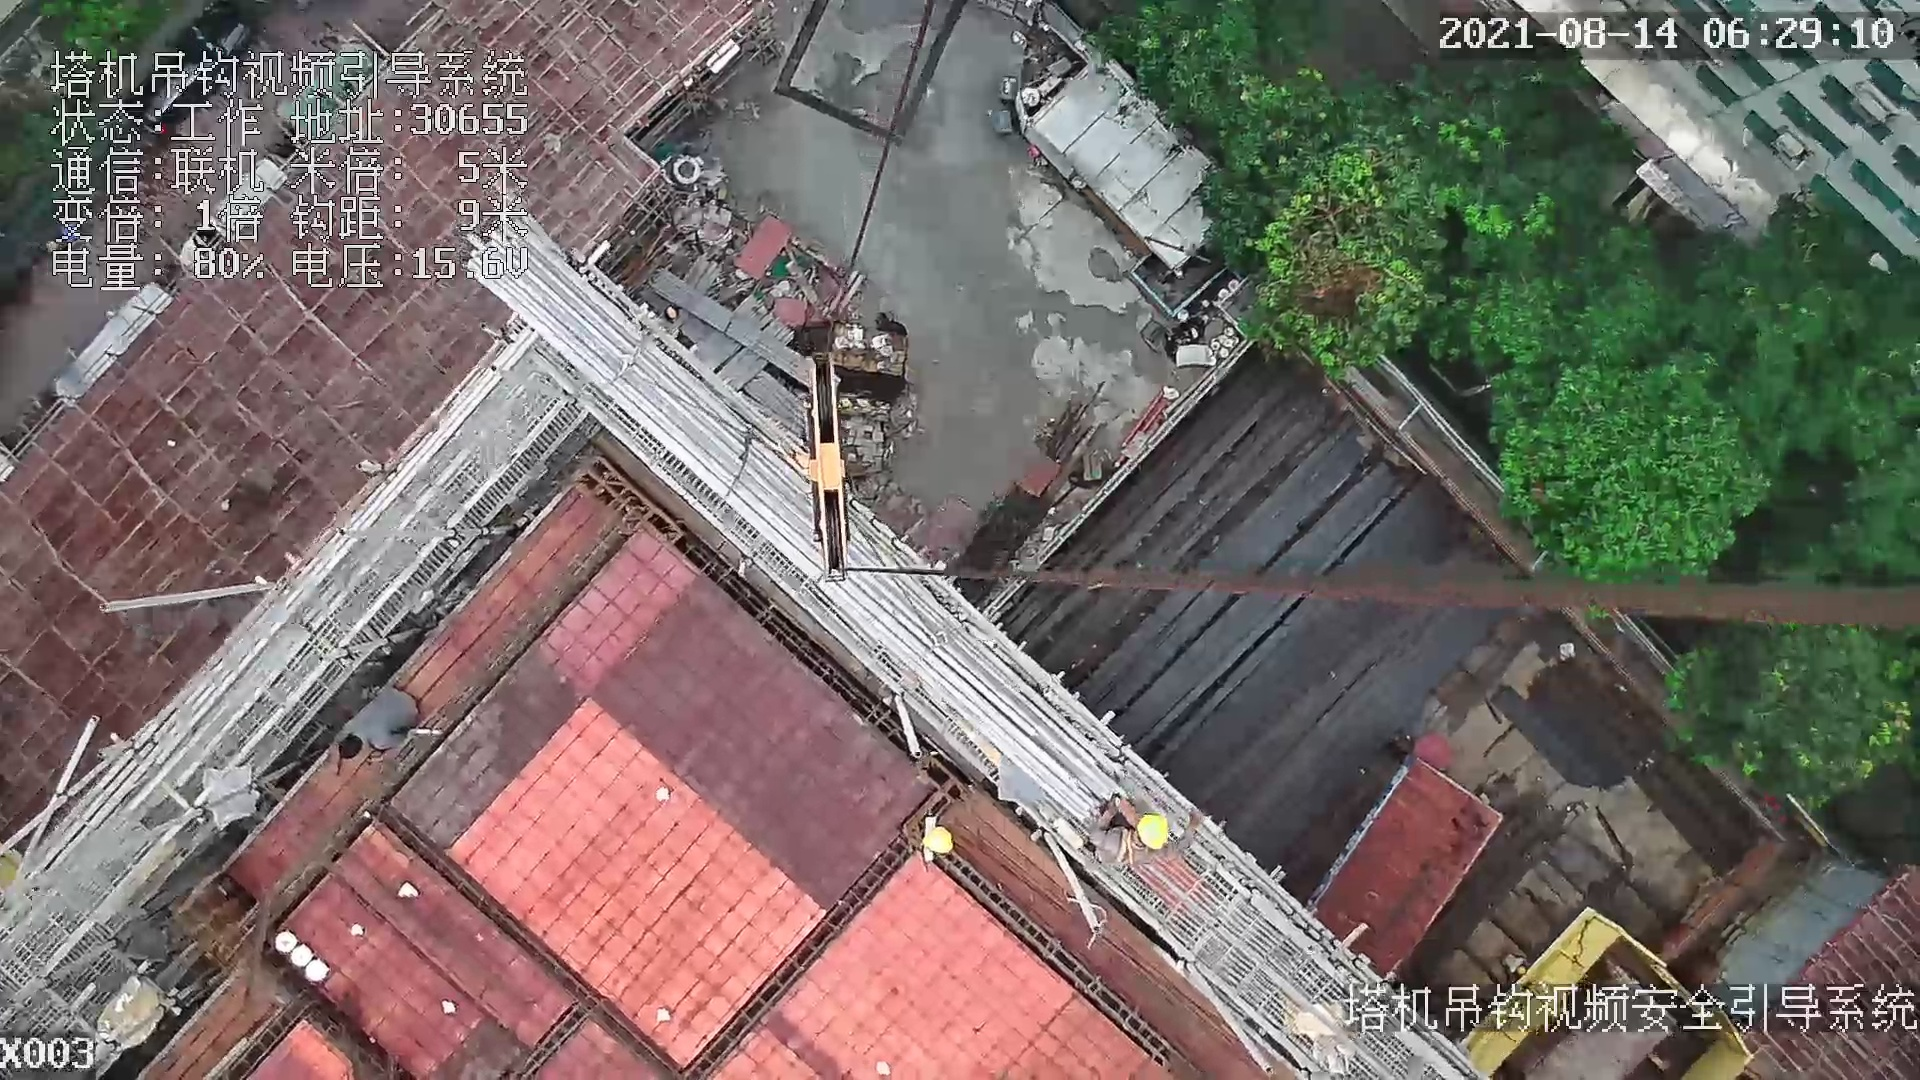helmet: (1137, 814, 1174, 851), (926, 823, 956, 864)
hook: (801, 356, 853, 583)
person: (1069, 792, 1213, 868)
rebar: (1054, 401, 1477, 790)
